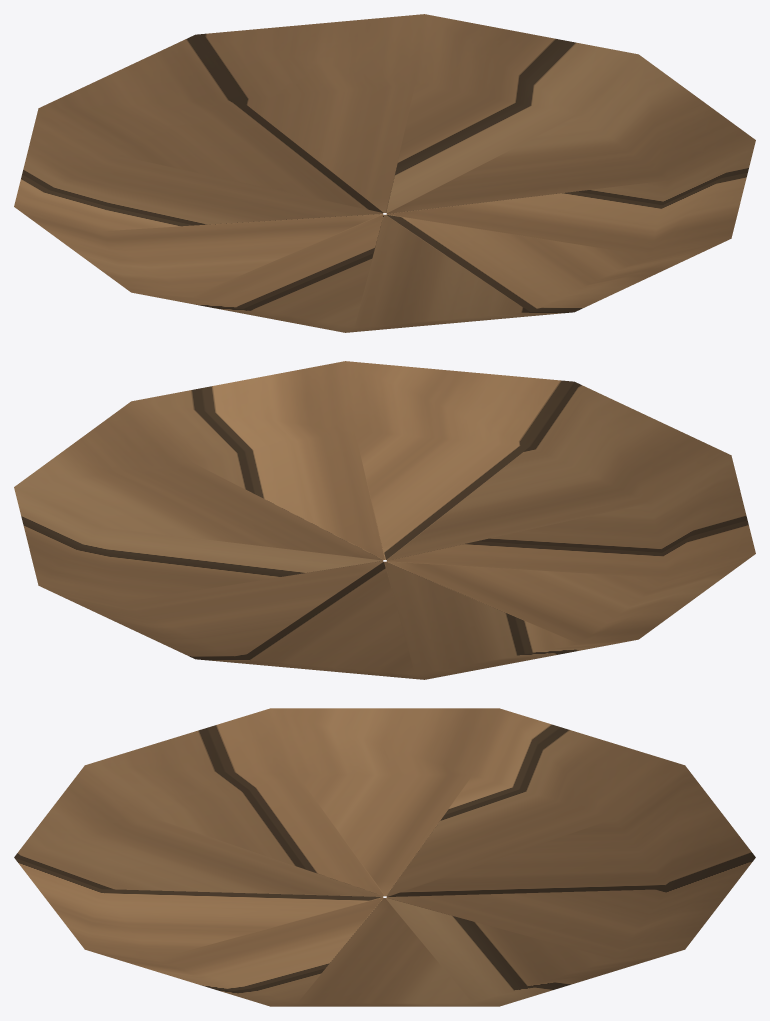
Rendered from Table_Plate_LOD1.gltf.
3 renders of one model, top to bottom at view 1: azimuth 30°, elevation 25°; view 2: azimuth 150°, elevation 25°; view 3: azimuth 270°, elevation 25°, orthographic. The views are drawn at different scales.
Visible parts, largest first — view 1: Table_Plate_LOD1; view 2: Table_Plate_LOD1; view 3: Table_Plate_LOD1.
Part boxes in pixels (x1,y1,x2,y2): Table_Plate_LOD1: (14, 14, 755, 332); Table_Plate_LOD1: (14, 361, 755, 679); Table_Plate_LOD1: (14, 708, 755, 1006).
Bounding box in the file's own units: 0.3234 × 0.02 × 0.34.
Materials: 1 (1 with a texture image).
